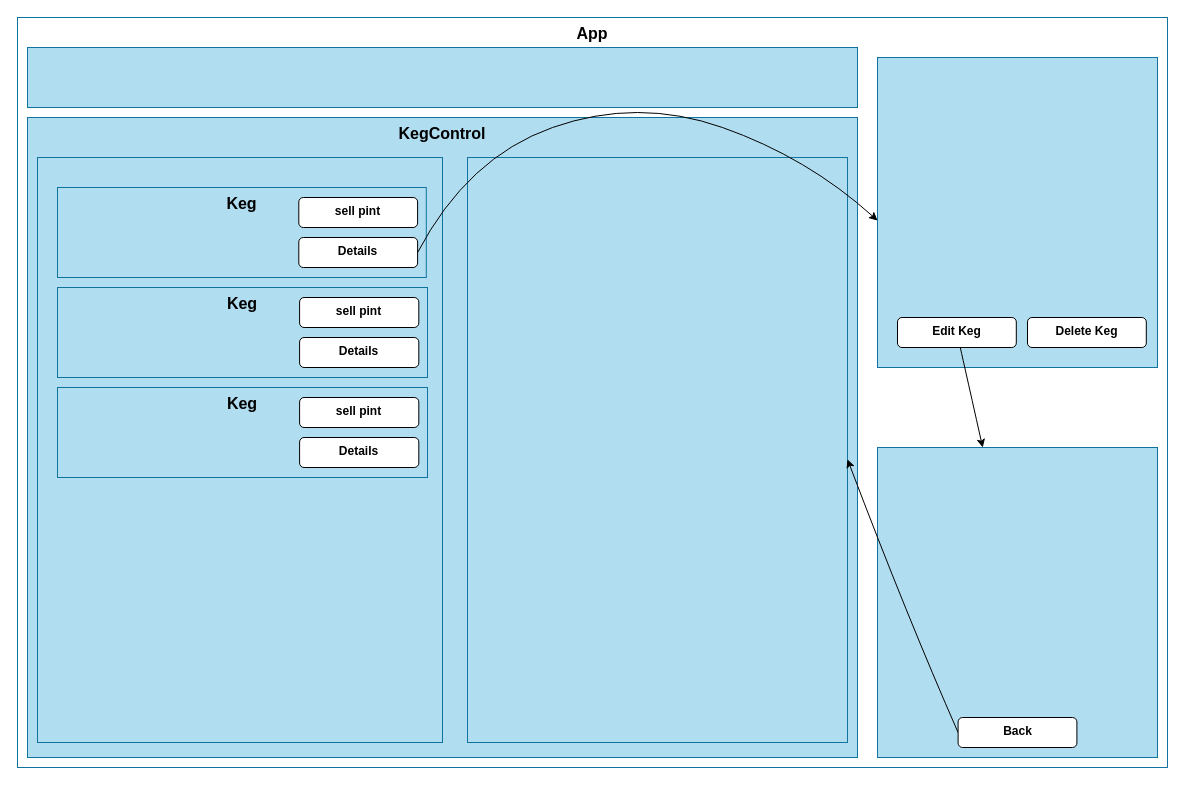
Some shapes in this 1185 by 785 pixel diagram are drawn without their labels. The shapes that lost their labels are listed below. From the top down, each one's box as (x1, y1, x2, y2) in pixels, then its label:
(26, 46, 858, 108): Header
(876, 56, 1158, 368): KegDetail
(36, 156, 442, 742): KegList
(466, 156, 848, 742): KegImage
(876, 446, 1158, 758): KegEdit
